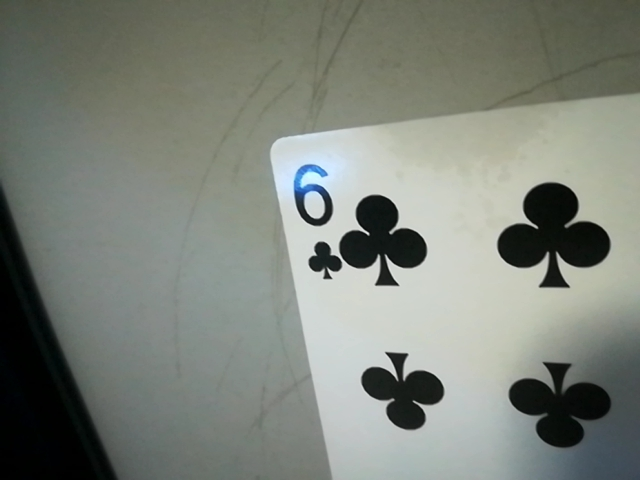mh 6: (284, 154, 348, 285)
